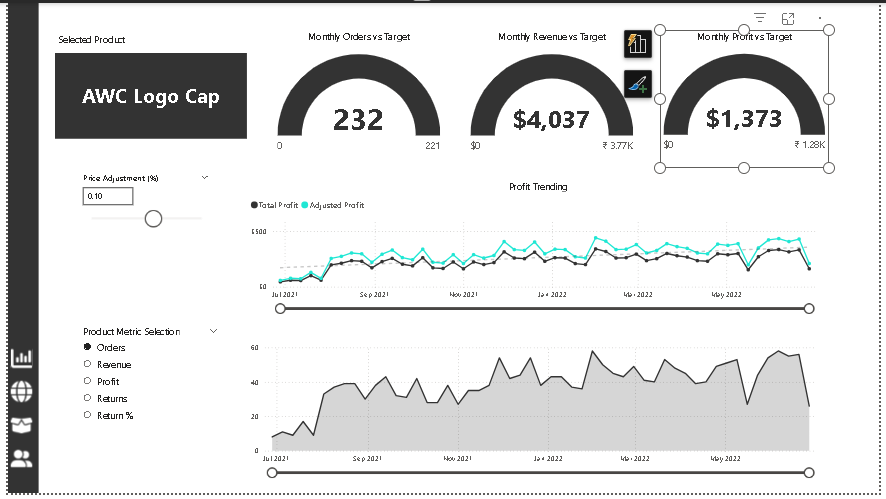

This screenshot's page, from the dashboard's own definition file:
{"tool":"powerbi","page":{"name":"Product Detail","canvas":[1280,720],"ordinal":2},"visuals":[{"type":"shape","box":[0,0,45,720],"z":0},{"type":"gauge","title":"Monthly Orders vs Target","fields":{"Y":["Measures Table.Total Orders"],"MaxValue":["Measures Table.Order Target"]},"box":[391.6,40.4,249.3,203.7],"z":1000},{"type":"gauge","title":"Monthly Profit  vs Target","fields":{"Y":["Measures Table.Total Profit"],"MaxValue":["Measures Table.Profit Target"]},"box":[958.7,40.4,247.6,201.9],"z":2000},{"type":"gauge","title":"Monthly Revenue vs Target","fields":{"Y":["Measures Table.Total Revenue"],"MaxValue":["Measures Table.Revenue Target"]},"box":[675.1,40.4,249.3,203.7],"z":3000},{"type":"lineChart","title":"Profit Trending","fields":{"Category":["Calendar Lookup.Date hierarchy.Year","Calendar Lookup.Date hierarchy.Start of Month","Calendar Lookup.Date hierarchy.Start of Week","Calendar Lookup.Date hierarchy.Date"],"Y":["Measures Table.Total Profit","Measures Table.Adjusted Profit"]},"box":[351.2,260.1,855.2,199.8],"z":4000},{"type":"areaChart","title":"Returns Trending","fields":{"Y":["Measures Table.Total Orders"],"Category":["Calendar Lookup.Date hierarchy.Year","Calendar Lookup.Date hierarchy.Start of Month","Calendar Lookup.Date hierarchy.Start of Week","Calendar Lookup.Date hierarchy.Date"]},"box":[351.2,492.2,855.2,208.7],"z":5000},{"type":"card","fields":{"Values":["Min(Product Lookup.ProductName)"]},"box":[69.1,73.5,282.1,126.4],"z":6000},{"type":"textbox","box":[69.1,39.7,267.4,41.1],"z":7000},{"type":"actionButton","box":[0,502.5,45.6,39.7],"z":8000},{"type":"actionButton","box":[0,649.5,45.6,39.7],"z":9000},{"type":"actionButton","box":[0,600.5,45.6,39.7],"z":10000},{"type":"actionButton","box":[0,551.5,45.6,39.7],"z":11000},{"type":"slicer","fields":{"Values":["Price Adjustment (%).Price Adjustment (%)"]},"box":[97,243.9,210.1,116.1],"z":12000},{"type":"slicer","fields":{"Values":["Product Metric Selection.Product Metric Selection"]},"box":[97,468.7,223.3,220.4],"z":13000}]}

Visuals, with their boxes on the page's 1280x720 design canvas (x1, y1, x2, y2). These are canvas units, not pixel positions in the 886x499 screenshot, which may show the page scaled, cropped or inside an application window:
shape: bbox(0, 0, 45, 720)
"Monthly Orders vs Target" gauge: bbox(392, 40, 641, 244)
"Monthly Profit  vs Target" gauge: bbox(959, 40, 1206, 242)
"Monthly Revenue vs Target" gauge: bbox(675, 40, 924, 244)
"Profit Trending" lineChart: bbox(351, 260, 1206, 460)
"Returns Trending" areaChart: bbox(351, 492, 1206, 701)
card - Min(Product Lookup.ProductName): bbox(69, 74, 351, 200)
textbox: bbox(69, 40, 336, 81)
actionButton: bbox(0, 502, 46, 542)
actionButton: bbox(0, 650, 46, 689)
actionButton: bbox(0, 600, 46, 640)
actionButton: bbox(0, 552, 46, 591)
slicer - Price Adjustment (%).Price Adjustment (%): bbox(97, 244, 307, 360)
slicer - Product Metric Selection.Product Metric Selection: bbox(97, 469, 320, 689)
